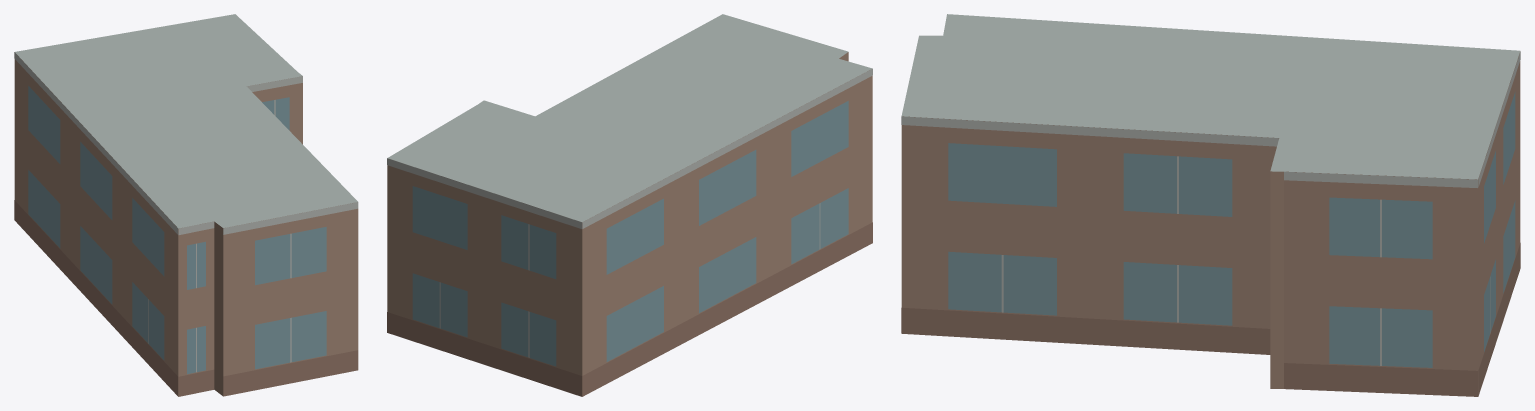
Rendered from survey-upis-32657984.glb.
The picture shows the model from 3 angles, left to right: view 1: azimuth 30°, elevation 25°; view 2: azimuth 150°, elevation 25°; view 3: azimuth 270°, elevation 25°; orthographic projection. The views are drawn at different scales.
Parts seen in each view (by area): view 1: survey-upis-32657984.tmp; view 2: survey-upis-32657984.tmp; view 3: survey-upis-32657984.tmp.
Part boxes in pixels (bbox=[...]): survey-upis-32657984.tmp: bbox=[14, 14, 358, 396]; survey-upis-32657984.tmp: bbox=[387, 14, 872, 396]; survey-upis-32657984.tmp: bbox=[901, 14, 1520, 396].
Bounding box in the file's own units: 9.97 × 6.1 × 15.76.
